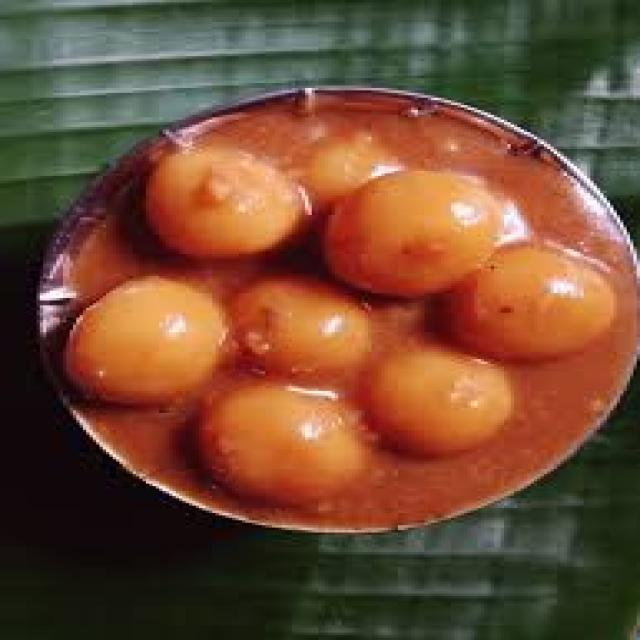paal kolukattai: (44, 96, 632, 536)
